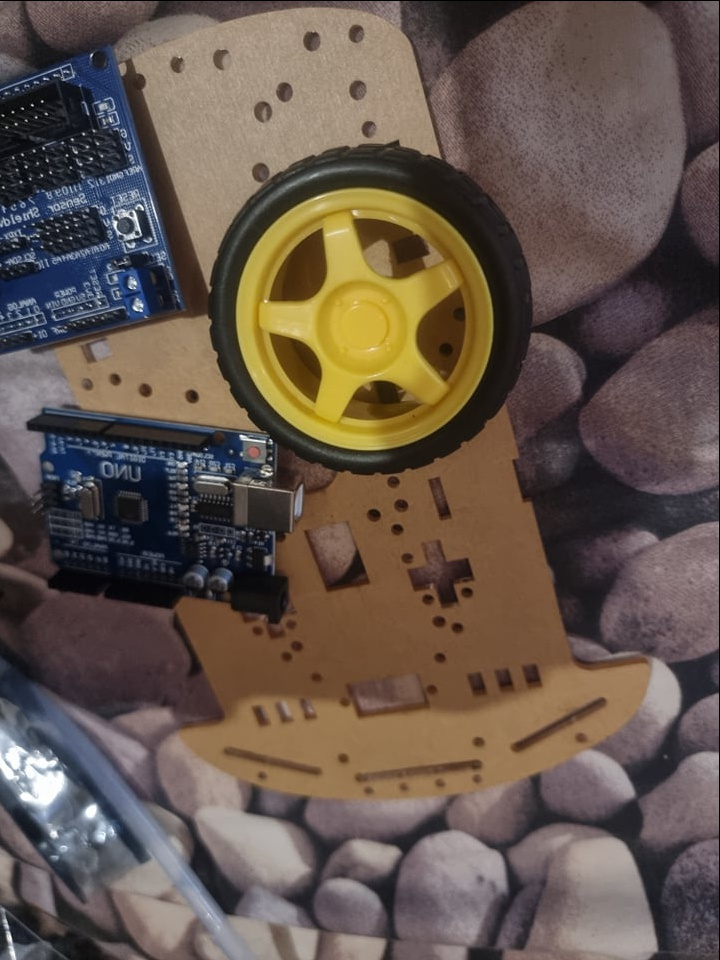5V EXPANSION: (1, 37, 195, 356)
UNO R3: (28, 404, 299, 618)
